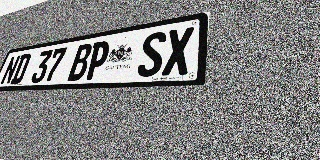3: (30, 49, 54, 83)
7: (43, 47, 67, 83)
B: (67, 43, 94, 81)
D: (10, 53, 32, 84)
N: (0, 55, 21, 85)
P: (84, 40, 112, 80)
S: (136, 31, 167, 77)
X: (162, 26, 194, 76)
